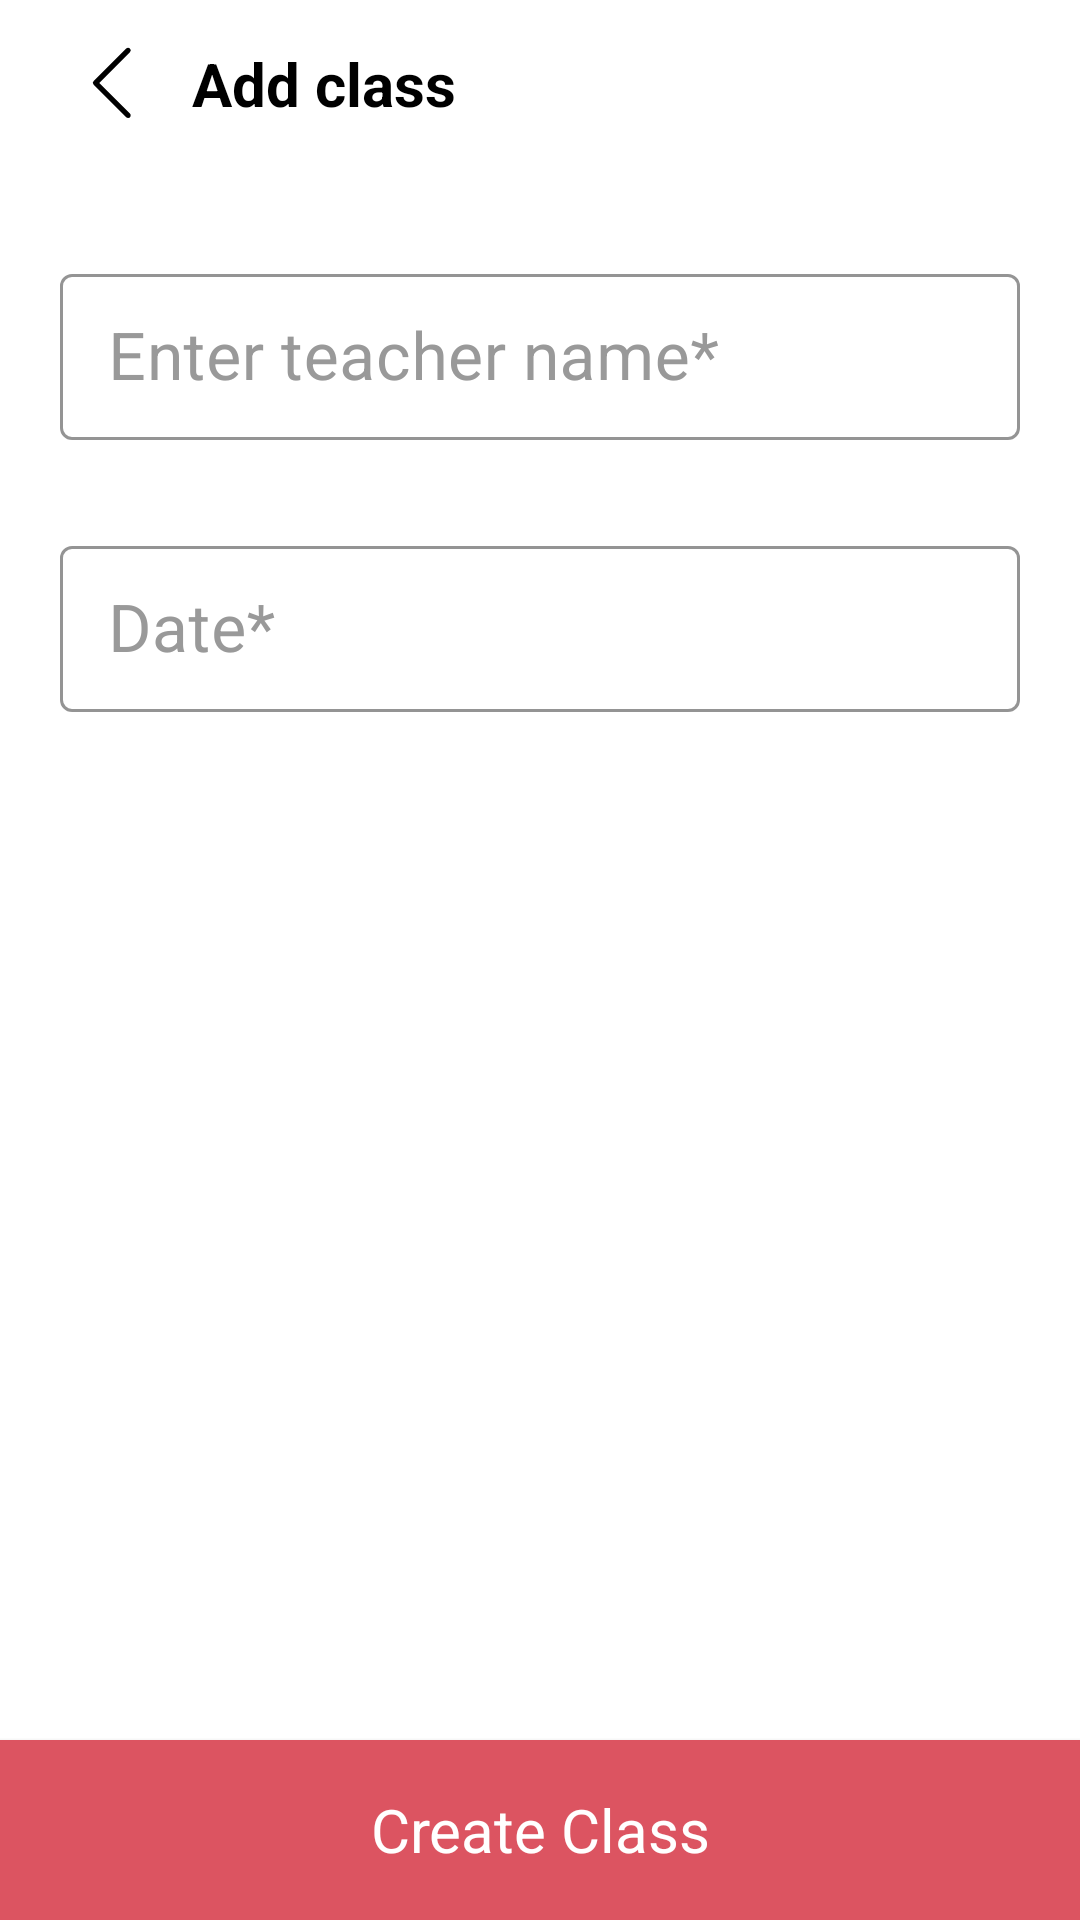

Named icons in this screenshot (1080*1920) and their centers, point (x, y):
back: point (111, 82)
